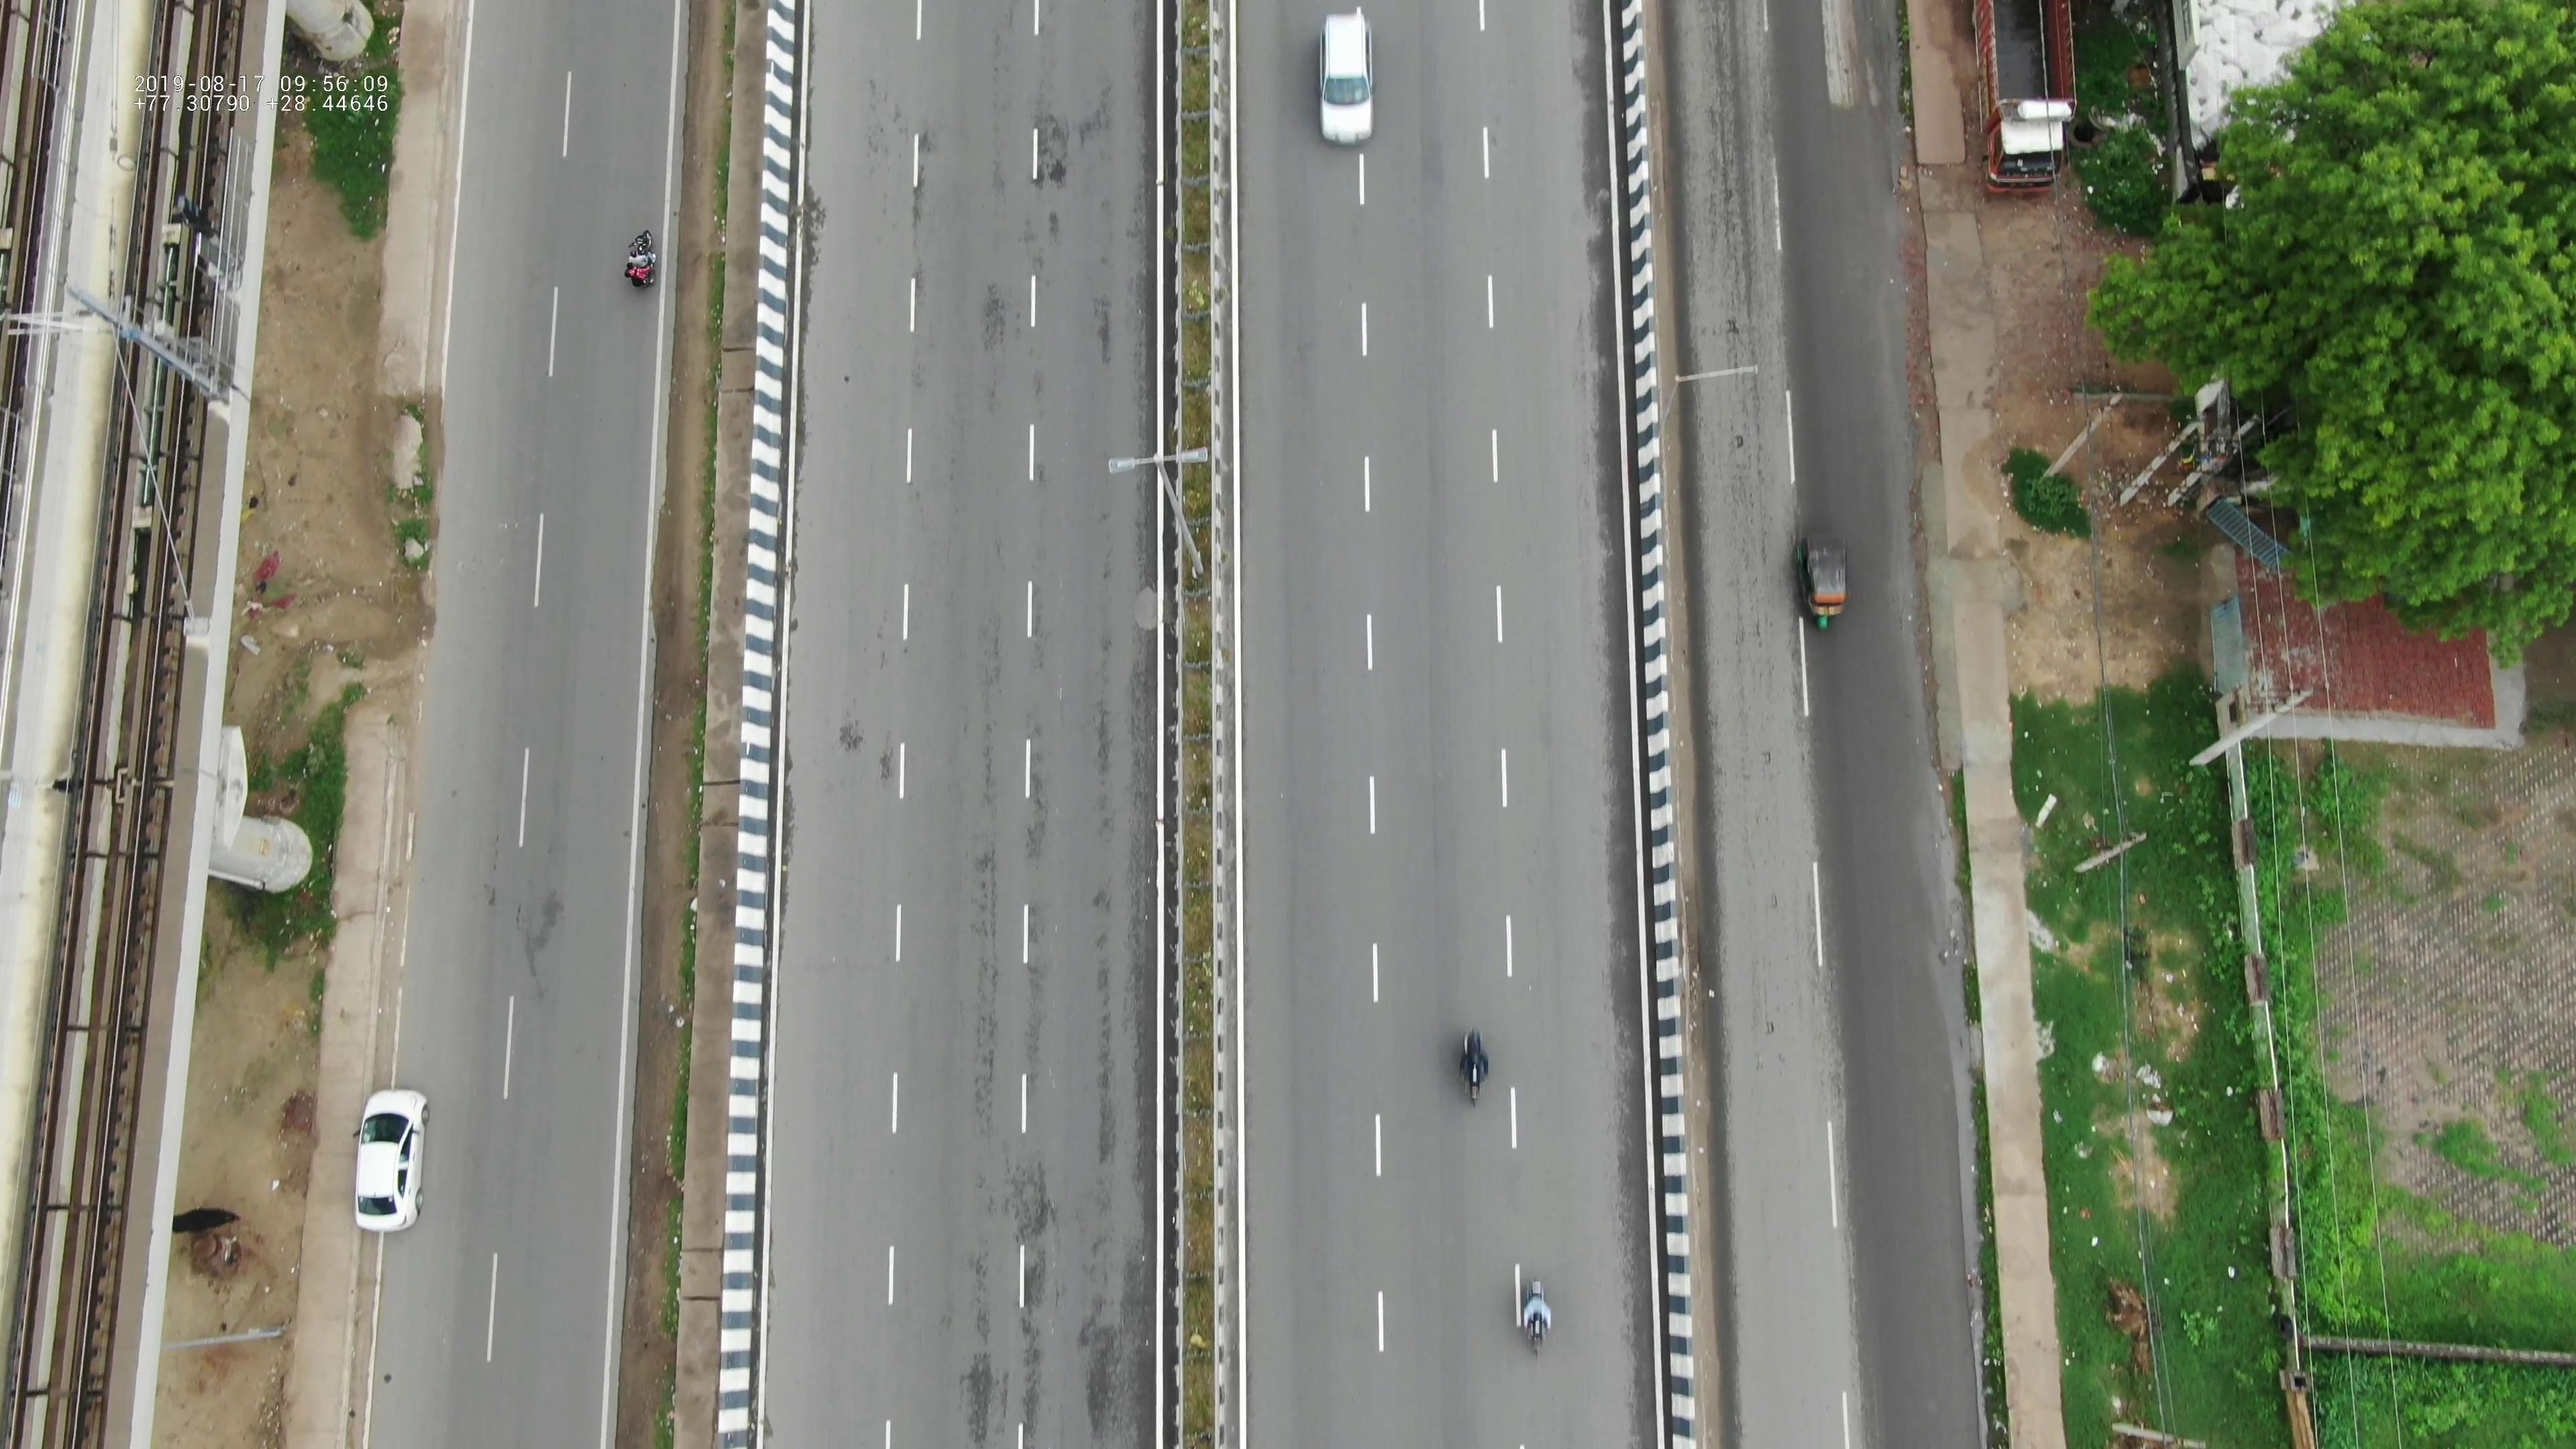Ravelling: (936, 711, 1132, 1162), (994, 69, 1092, 258)
